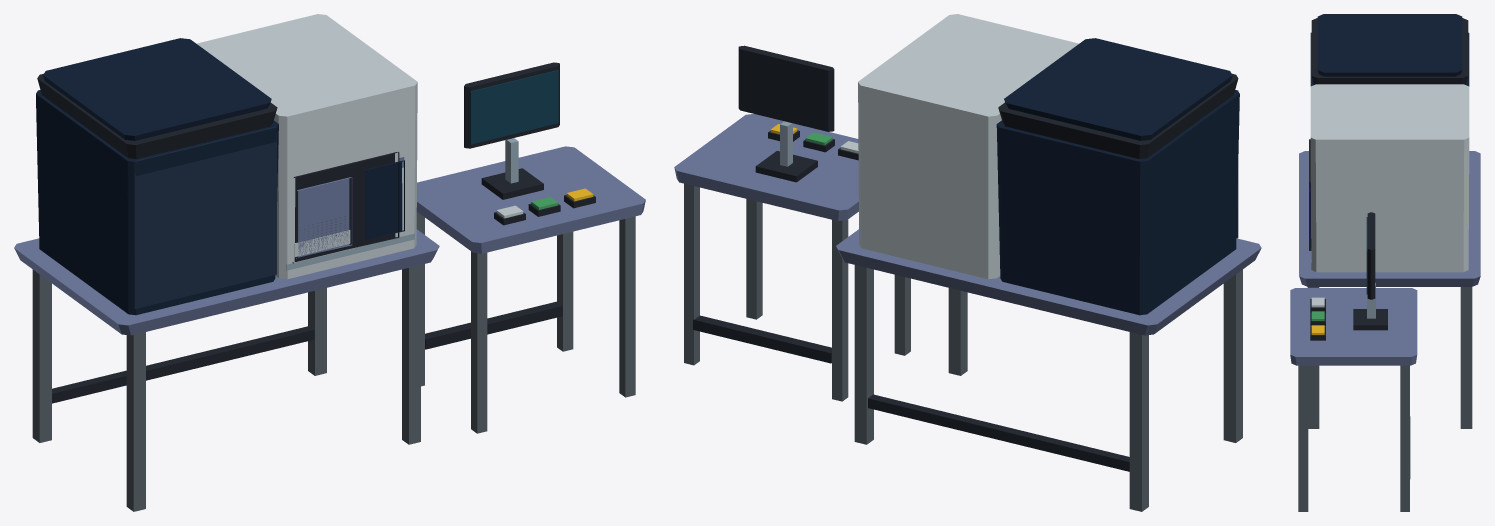
Rendered from bd-facsaria-ii.glb.
The picture shows the model from 3 angles, left to right: view 1: azimuth 30°, elevation 25°; view 2: azimuth 150°, elevation 25°; view 3: azimuth 270°, elevation 25°; orthographic projection. The views are drawn at different scales.
Parts seen in each view (by area): view 1: left_shell, right_shell, desk, stand, opaque_front, drawing_display; view 2: left_shell, right_shell, stand, desk, drawing_display; view 3: right_shell, desk, left_shell, stand, drawing_display, select_CA, select_BC, select_AB, opaque_front.
Part boxes in pixels (bbox=[...]): left_shell: bbox=[36, 38, 278, 315]; right_shell: bbox=[197, 14, 417, 279]; desk: bbox=[416, 138, 645, 433]; stand: bbox=[14, 229, 439, 511]; opaque_front: bbox=[292, 152, 404, 263]; drawing_display: bbox=[464, 62, 559, 148]; left_shell: bbox=[996, 38, 1239, 315]; right_shell: bbox=[858, 14, 1078, 279]; stand: bbox=[836, 229, 1261, 511]; desk: bbox=[674, 114, 910, 401]; drawing_display: bbox=[738, 45, 834, 131]; right_shell: bbox=[1310, 84, 1469, 272]; desk: bbox=[1290, 282, 1417, 511]; left_shell: bbox=[1310, 14, 1469, 86]; stand: bbox=[1299, 151, 1480, 428]; drawing_display: bbox=[1366, 212, 1375, 299]; select_CA: bbox=[1310, 325, 1325, 340]; select_BC: bbox=[1310, 311, 1325, 326]; select_AB: bbox=[1310, 297, 1325, 312]; opaque_front: bbox=[1309, 139, 1311, 250].
Size of the model in its own units: 2.19 by 1.49 by 0.852.
